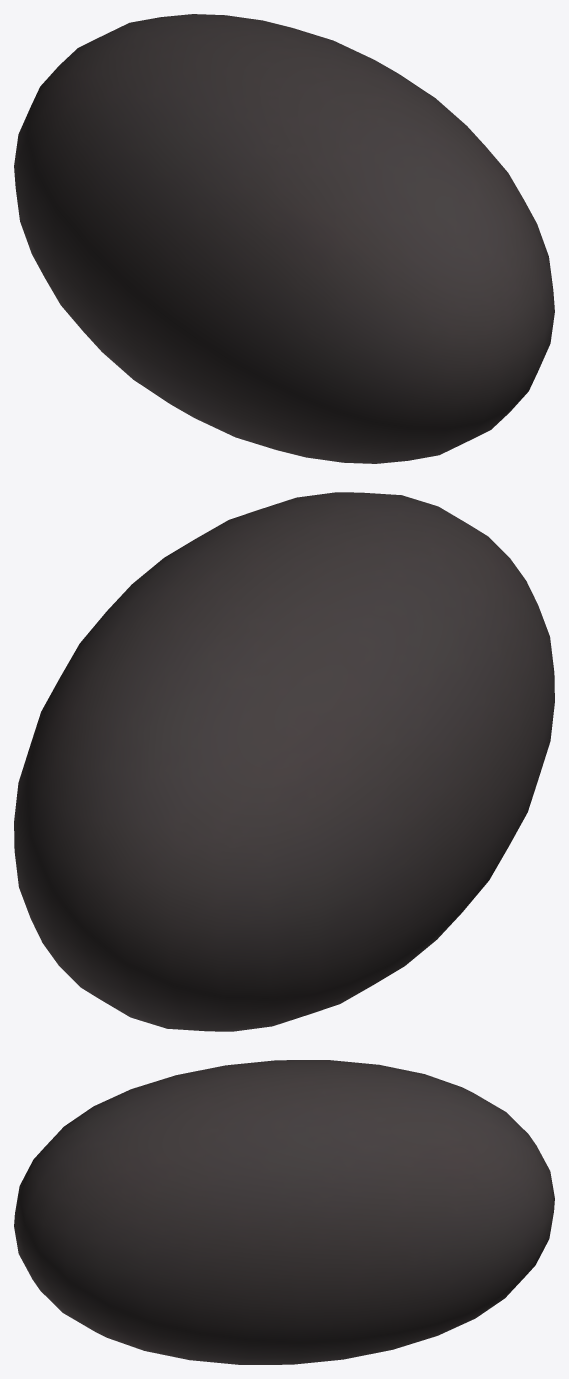
3 views of the same model, one above another, from view 1: azimuth 30°, elevation 25°; view 2: azimuth 150°, elevation 25°; view 3: azimuth 270°, elevation 25° (orthographic). The views are drawn at different scales.
Visible parts, largest first — view 1: Cube.036; view 2: Cube.036; view 3: Cube.036.
Part boxes in pixels (x1,y1,x2,y2): Cube.036: [14, 14, 554, 463]; Cube.036: [14, 492, 554, 1031]; Cube.036: [14, 1060, 554, 1364].
Size of the model in its own units: 0.7181 by 0.7041 by 1.26.
Materials: 1 (1 with a texture image).
